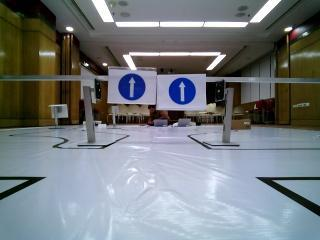straight: (109, 68, 157, 103), (159, 75, 206, 109)
